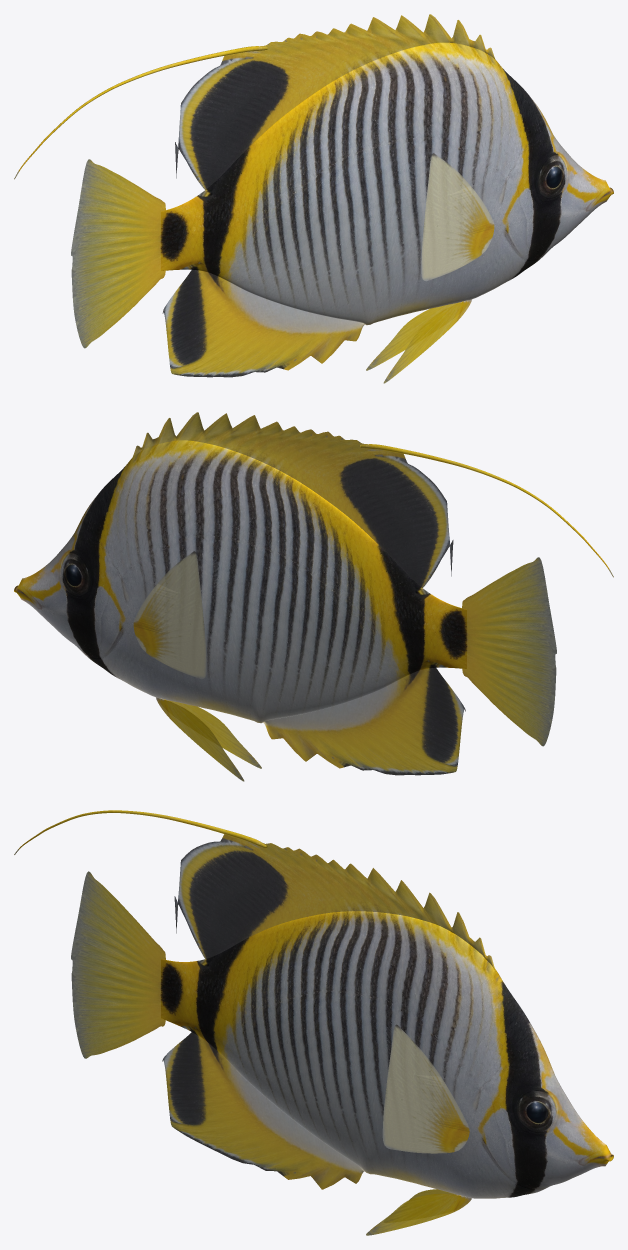
The model's file is auriga.glb.
3 renders of one model, top to bottom at view 1: azimuth 30°, elevation 25°; view 2: azimuth 150°, elevation 25°; view 3: azimuth 330°, elevation 25°, orthographic.
Visible parts, largest first — view 1: auriga__body, auriga__fin_1, auriga__fin_2, auriga__fin_0, auriga__pectoral_1, auriga__gill_1, auriga__pelvic_1, auriga__pelvic_-1, auriga__fin_3, auriga__eye_1; view 2: auriga__body, auriga__fin_1, auriga__fin_2, auriga__fin_0, auriga__pectoral_-1, auriga__gill_-1, auriga__pelvic_-1, auriga__pelvic_1, auriga__fin_3, auriga__eye_-1; view 3: auriga__body, auriga__fin_1, auriga__fin_2, auriga__fin_0, auriga__pectoral_1, auriga__gill_1, auriga__pelvic_1, auriga__fin_3, auriga__eye_1.
Boxes of the visible parts, x1,y1,x2,y2 form: auriga__body: (161, 42, 613, 325); auriga__fin_1: (175, 14, 495, 189); auriga__fin_2: (162, 269, 365, 377); auriga__fin_0: (71, 159, 165, 348); auriga__pectoral_1: (421, 153, 494, 281); auriga__gill_1: (500, 150, 544, 262); auriga__pelvic_1: (383, 299, 471, 383); auriga__pelvic_-1: (366, 302, 459, 370); auriga__fin_3: (14, 46, 267, 179); auriga__eye_1: (543, 160, 565, 190); auriga__body: (14, 440, 466, 723); auriga__fin_1: (132, 412, 453, 587); auriga__fin_2: (263, 667, 465, 775); auriga__fin_0: (462, 557, 556, 746); auriga__pectoral_-1: (133, 551, 206, 679); auriga__gill_-1: (83, 548, 127, 660); auriga__pelvic_-1: (156, 697, 244, 781); auriga__pelvic_1: (168, 700, 261, 768); auriga__fin_3: (360, 444, 613, 577); auriga__eye_-1: (62, 558, 84, 588); auriga__body: (161, 911, 613, 1198); auriga__fin_1: (174, 834, 495, 971); auriga__fin_2: (162, 1032, 364, 1189); auriga__fin_0: (71, 871, 165, 1058); auriga__pectoral_1: (382, 1024, 469, 1153); auriga__gill_1: (478, 1068, 524, 1177); auriga__pelvic_1: (366, 1194, 470, 1235); auriga__fin_3: (14, 810, 267, 854); auriga__eye_1: (523, 1097, 553, 1124).
Size of the model in its own units: 1.33 by 0.7737 by 0.149.
Materials: 5 (5 with a texture image).
